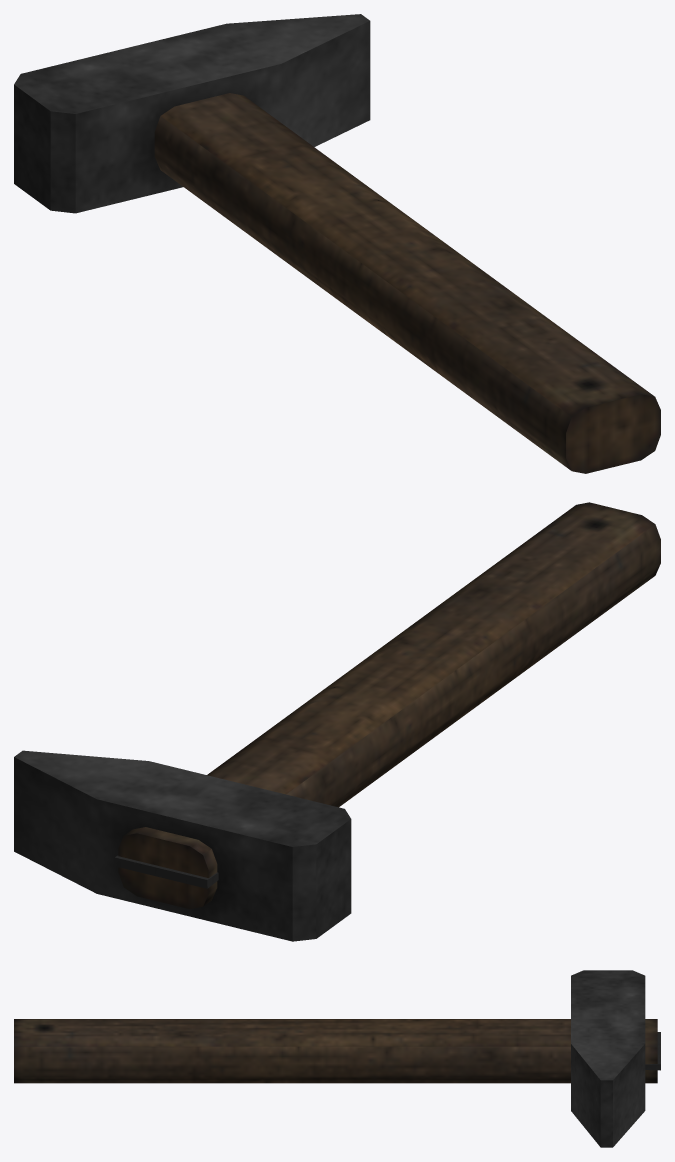
File: hammer_mx_2_1.obj
3 renders of one model, top to bottom at view 1: azimuth 30°, elevation 25°; view 2: azimuth 150°, elevation 25°; view 3: azimuth 270°, elevation 25°, orthographic. The views are drawn at different scales.
Visible parts, largest first — view 1: hammer_mx_2_1; view 2: hammer_mx_2_1; view 3: hammer_mx_2_1.
Part boxes in pixels (x1,y1,x2,y2): hammer_mx_2_1: (14,14,660,473); hammer_mx_2_1: (14,502,660,941); hammer_mx_2_1: (14,970,660,1147).
Bounding box in the file's own units: 0.21 × 0.06 × 0.5227.
